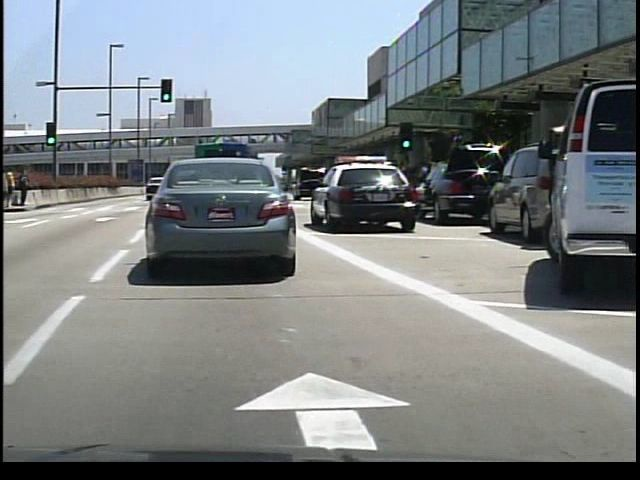person: (16, 165, 31, 208), (5, 162, 15, 210)
